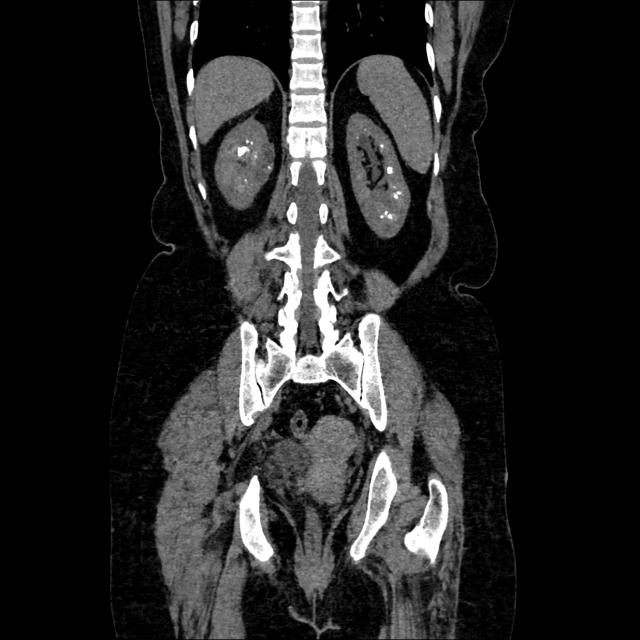kidney: (346, 114, 409, 239), (212, 115, 276, 212)
stone: (235, 138, 253, 164), (387, 161, 395, 177)
